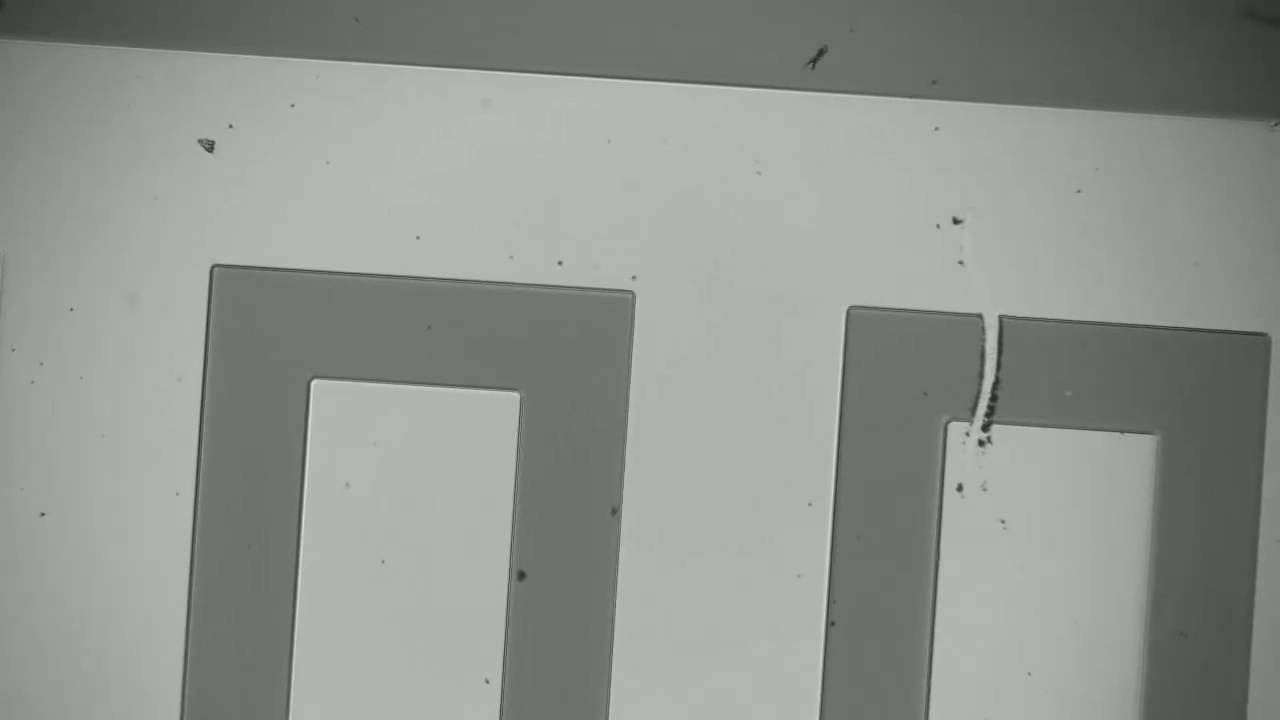Short_circuit: (956, 286, 1023, 446)
